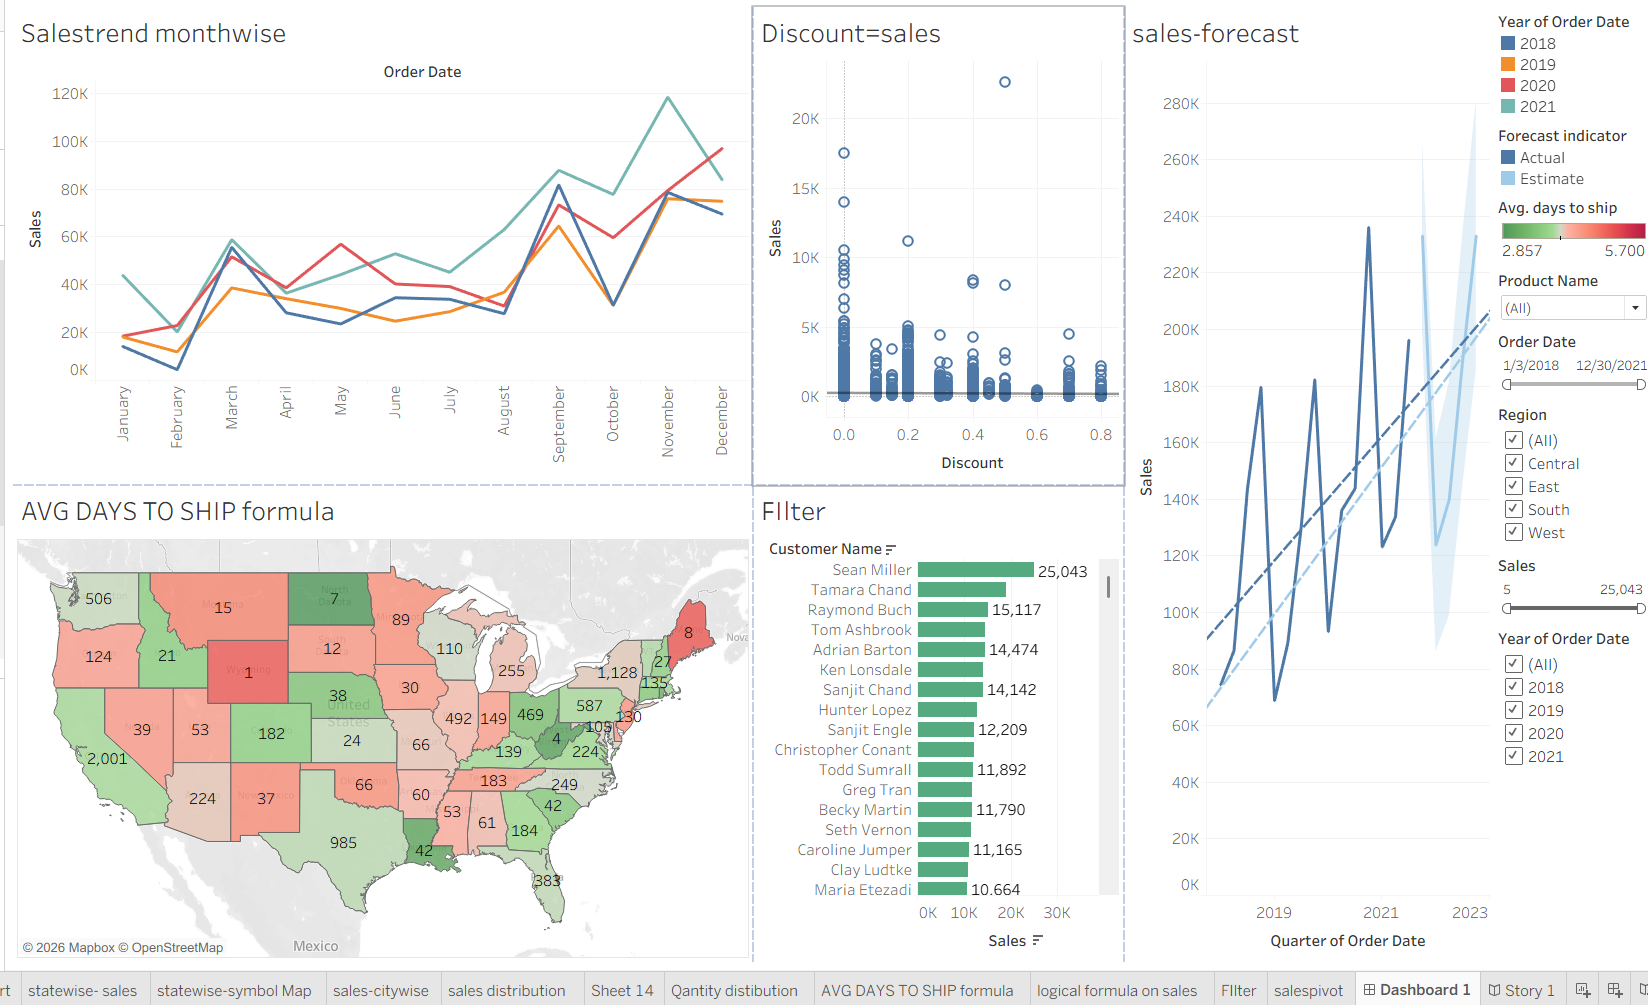

This screenshot's page, from the dashboard's own definition file:
{"tool":"tableau","page":{"name":"Dashboard 1","canvas":[1000,1000],"units":"permille","ordinal":0},"visuals":[{"type":"worksheet","title":"Salestrend monthwise","mark":"Automatic","rows":["Sales"],"cols":["Order Date"],"box":[4.8,8.2,447.4,491.8]},{"type":"worksheet","title":"Discount=sales","mark":"Automatic","rows":["Sales"],"cols":["Discount"],"box":[452.2,8.2,223.8,491.8]},{"type":"worksheet","title":"sales-forecast","mark":"Automatic","rows":["Sales"],"cols":["Order Date"],"box":[676,8.2,223.8,983.5]},{"type":"legend","title":"Salestrend monthwise","param":"[federated.1khgsro1g5jgjm1fqit3p1umb5rc].[yr:Order Date:ok]","box":[899.8,8.2,95.4,117.4]},{"type":"legend","title":"sales-forecast","param":"[federated.1khgsro1g5jgjm1fqit3p1umb5rc].[none:Forecast Indicator:nk]","box":[899.8,125.7,95.4,74.2]},{"type":"legend","title":"AVG DAYS TO SHIP formula","param":"[federated.1khgsro1g5jgjm1fqit3p1umb5rc].[avg:Calculation_1365631853772800:qk]","box":[899.8,199.8,95.4,75.2]},{"type":"filter","title":"FIlter","param":"[federated.1khgsro1g5jgjm1fqit3p1umb5rc].[none:Product Name:nk]","box":[899.8,275,95.4,62.8]},{"type":"filter","title":"FIlter","param":"[federated.1khgsro1g5jgjm1fqit3p1umb5rc].[none:Order Date:qk]","box":[899.8,337.8,95.4,75.2]},{"type":"filter","title":"FIlter","param":"[federated.1khgsro1g5jgjm1fqit3p1umb5rc].[none:Region:nk]","box":[899.8,413,95.4,155.5]},{"type":"worksheet","title":"AVG DAYS TO SHIP formula","mark":"Automatic","box":[4.8,500,447.4,491.8]},{"type":"worksheet","title":"FIlter","mark":"Automatic","rows":["Customer Name"],"cols":["Sales"],"box":[452.2,500,223.8,491.8]},{"type":"filter","title":"FIlter","param":"[federated.1khgsro1g5jgjm1fqit3p1umb5rc].[sum:Sales:qk]","box":[899.8,568.5,95.4,75.2]},{"type":"filter","title":"FIlter","param":"[federated.1khgsro1g5jgjm1fqit3p1umb5rc].[yr:Order Date:ok]","box":[899.8,643.7,95.4,155.5]}]}

Visuals, with their boxes on the dashboard's canvas, which has no fixed pixel size, in thousandths of its width and height (x1, y1, x2, y2). These are canvas units, not pixel positions in the 1648x1005 screenshot, which may show the page scaled, cropped or inside an application window:
"Salestrend monthwise" worksheet: x1=5 y1=8 x2=452 y2=500
"Discount=sales" worksheet: x1=452 y1=8 x2=676 y2=500
"sales-forecast" worksheet: x1=676 y1=8 x2=900 y2=992
"Salestrend monthwise" legend: x1=900 y1=8 x2=995 y2=126
"sales-forecast" legend: x1=900 y1=126 x2=995 y2=200
"AVG DAYS TO SHIP formula" legend: x1=900 y1=200 x2=995 y2=275
"FIlter" filter: x1=900 y1=275 x2=995 y2=338
"FIlter" filter: x1=900 y1=338 x2=995 y2=413
"FIlter" filter: x1=900 y1=413 x2=995 y2=568
"AVG DAYS TO SHIP formula" worksheet: x1=5 y1=500 x2=452 y2=992
"FIlter" worksheet: x1=452 y1=500 x2=676 y2=992
"FIlter" filter: x1=900 y1=568 x2=995 y2=644
"FIlter" filter: x1=900 y1=644 x2=995 y2=799
